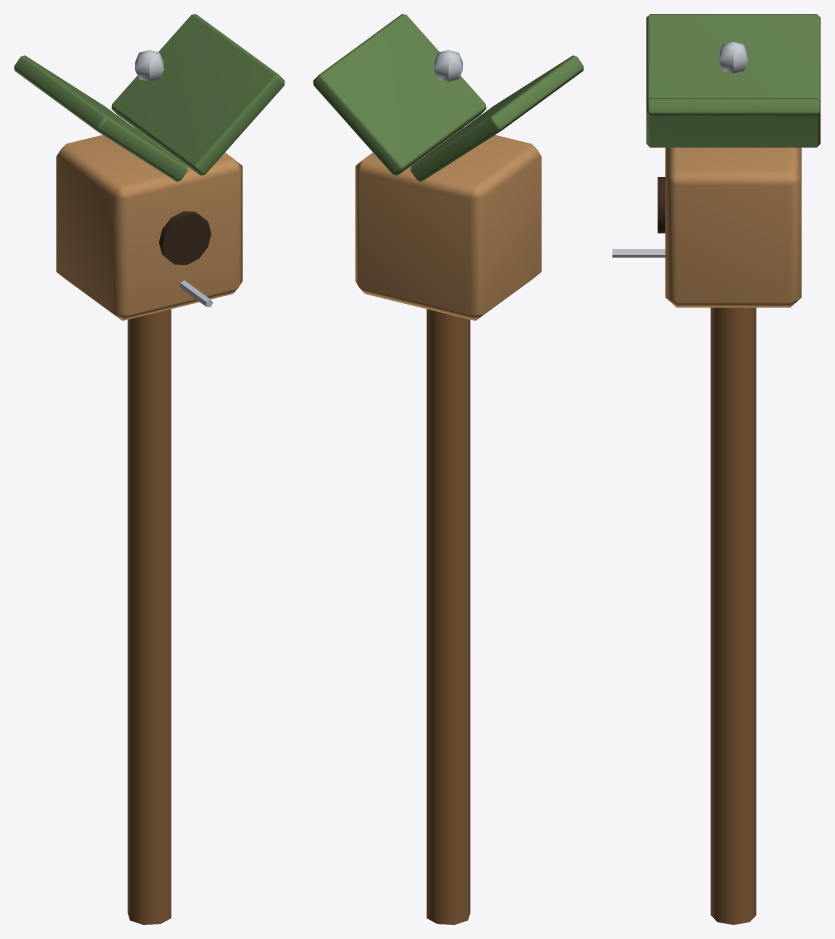
The model's file is birdhouse_post.glb.
3 renders of one model, left to right at view 1: azimuth 30°, elevation 25°; view 2: azimuth 150°, elevation 25°; view 3: azimuth 270°, elevation 25°, orthographic.
Visible parts, largest first — view 1: birdhouse_post; view 2: birdhouse_post; view 3: birdhouse_post.
Part boxes in pixels (box(x1,y1,x2,y2)): birdhouse_post: box(14, 14, 284, 924); birdhouse_post: box(313, 14, 583, 924); birdhouse_post: box(612, 14, 820, 924).
Size of the model in its own units: 0.5794 by 2.55 by 0.55.
